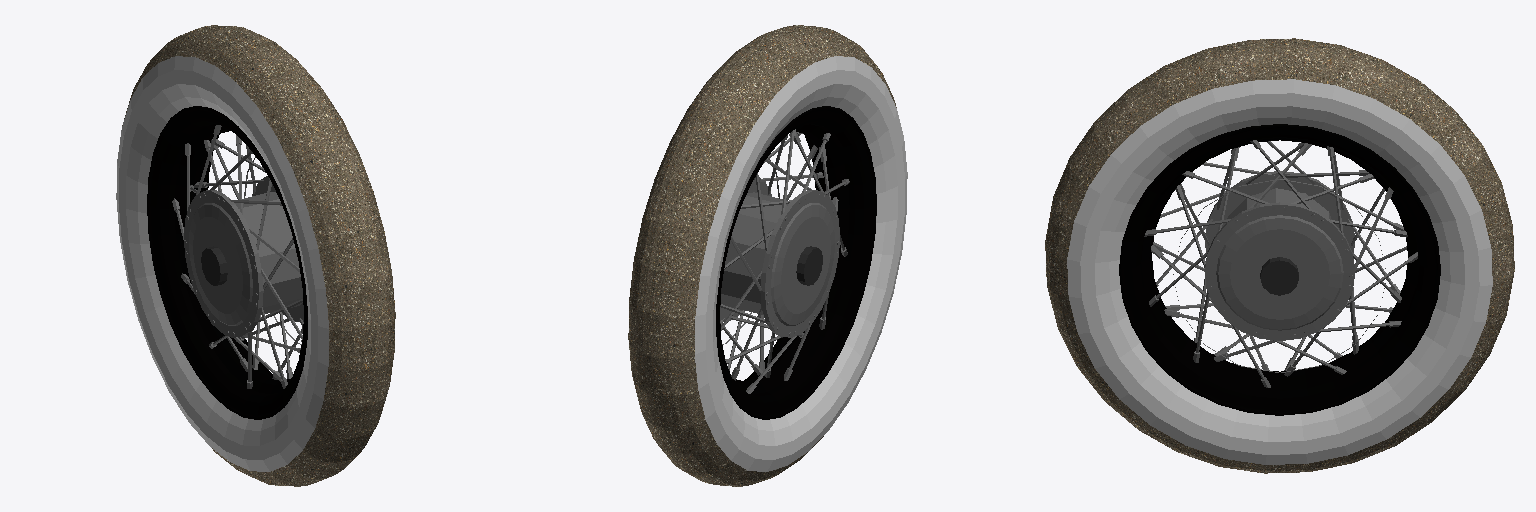
3 views of the same model, side by side, from view 1: azimuth 30°, elevation 25°; view 2: azimuth 150°, elevation 25°; view 3: azimuth 270°, elevation 25° (orthographic).
Visible parts, largest first — view 1: Cylinder.001_Material.004_0; view 2: Cylinder.001_Material.004_0; view 3: Cylinder.001_Material.004_0.
Boxes of the visible parts, box(x1,y1,x2,y2) form: Cylinder.001_Material.004_0: box(116, 25, 395, 486); Cylinder.001_Material.004_0: box(628, 25, 907, 486); Cylinder.001_Material.004_0: box(1045, 38, 1514, 473).
Bounding box in the file's own units: 0.1502 × 0.6747 × 0.6747.
5 materials, 1 textured.